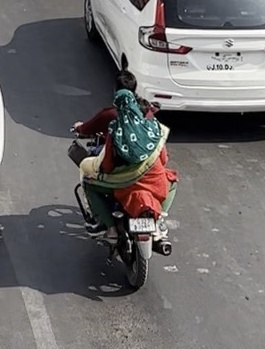BikeWithRider: (67, 67, 180, 289)
NoHelmet: (112, 88, 140, 117), (113, 68, 139, 93)
